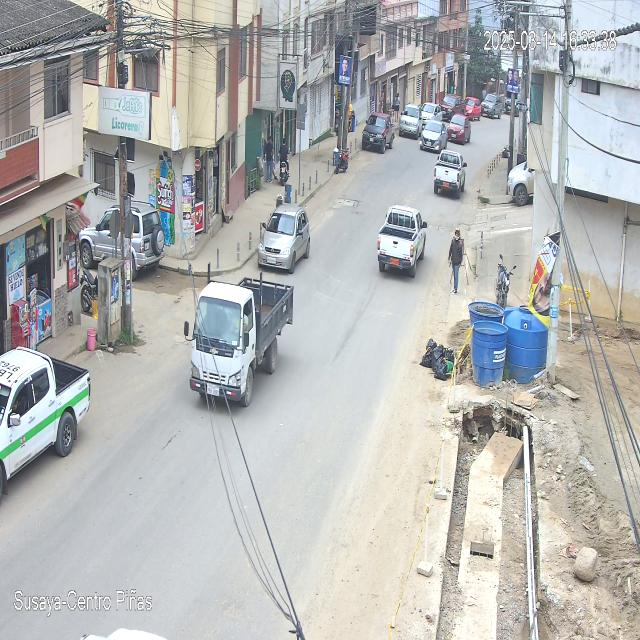CMT: (378, 204, 428, 278)
TRUCK: (184, 278, 294, 406)
